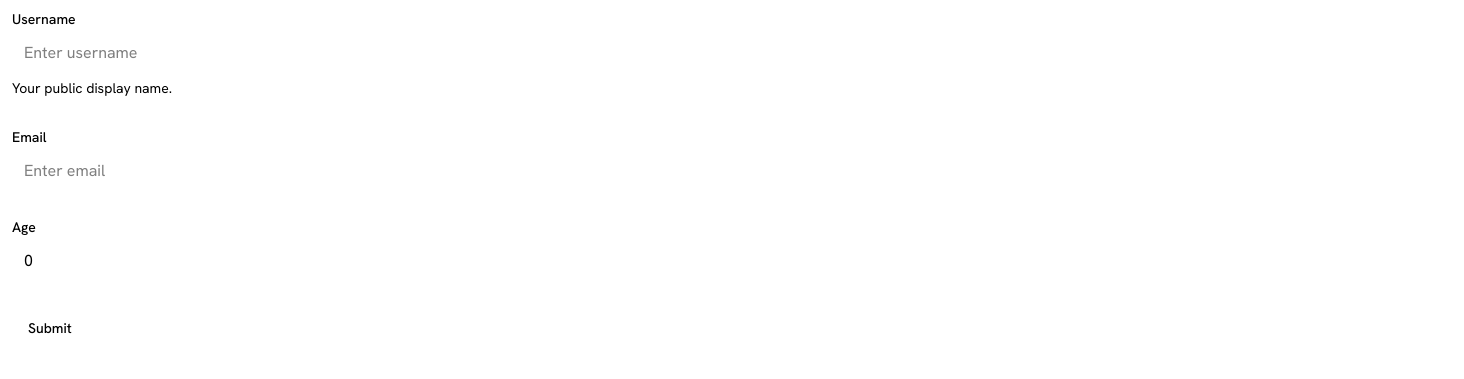
Form Component › Validation › should show validation error for invalid email
Note: Fill in valid data for other fields to isolate email validation
Type "testuser" into the field with placeholder "Enter username" at {"x": 732, "y": 52}, box [12,34,1452,70]
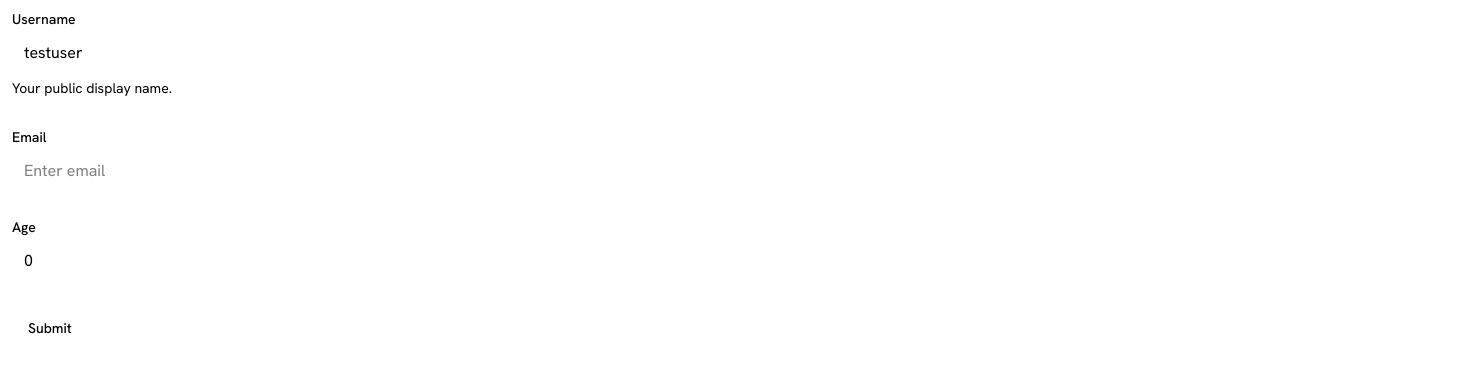
Type "notanemail" into the field with placeholder "Enter email" at {"x": 732, "y": 170}, box [12,152,1452,188]
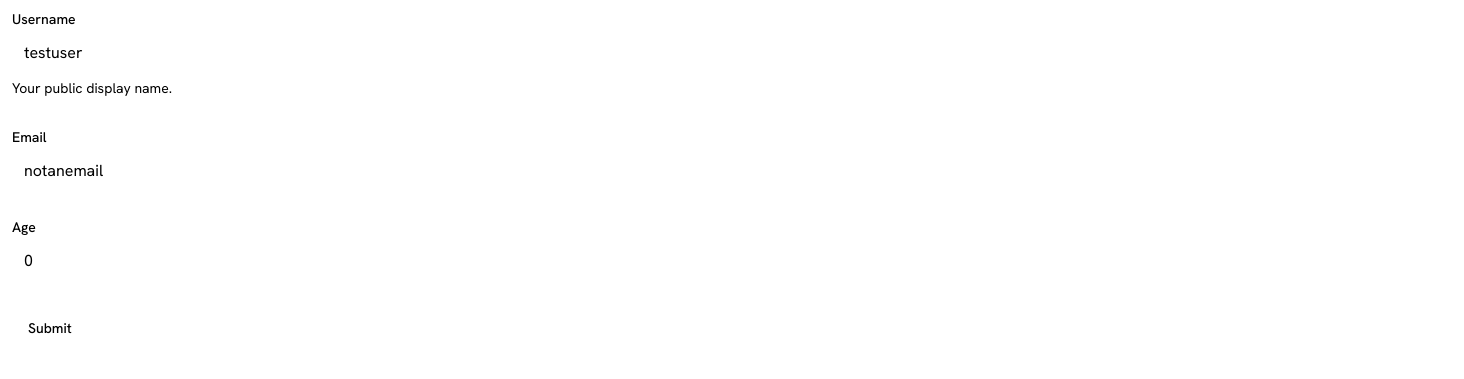
Replace the text in the number field with placeholder "Enter age" with "25" at {"x": 732, "y": 260}, box [12,242,1452,278]
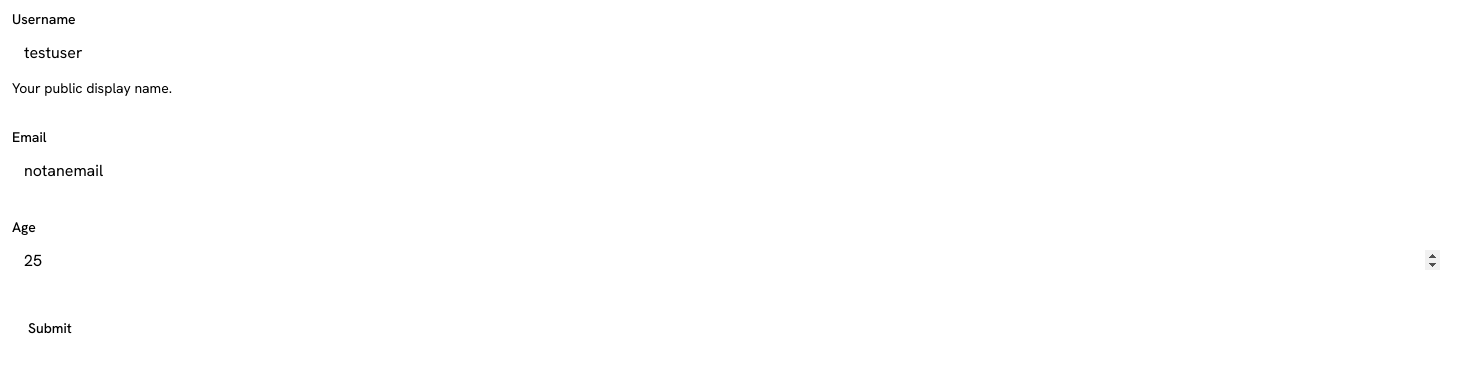
Click the button "Submit" at {"x": 50, "y": 328}, box [12,310,88,346]
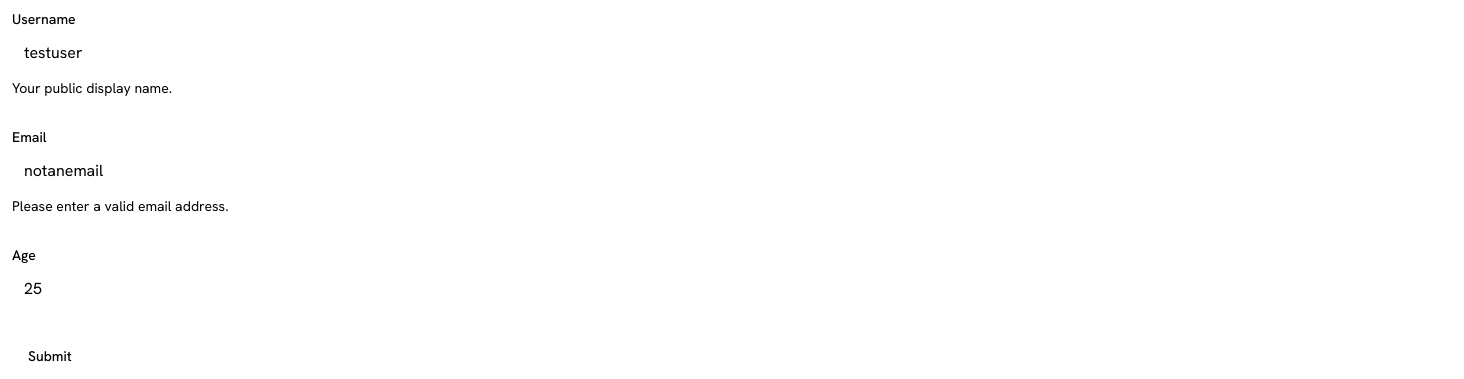
Now the text "Please enter a valid email address." is shown, box [12,197,228,215]
